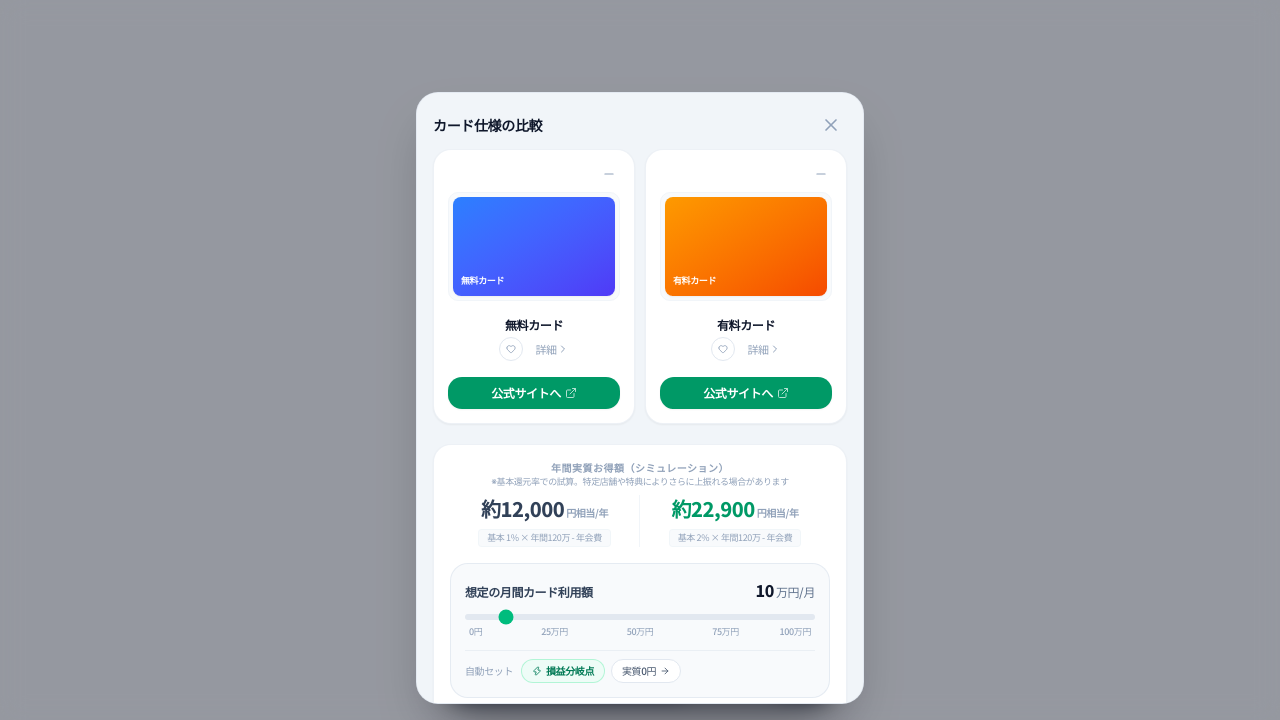
3. CompareBottomSheet (スライダー & 動的損益計算) テスト › 5. CompareBottomSheet 境界値テスト (Jest) › 1. 利用額 0 円設定時に NaN や計算エラーが発生せず、正常な数値が表示されること
The image size is (1280, 720).
Set the slider to "0" at (473, 617), box [465, 614, 815, 620]
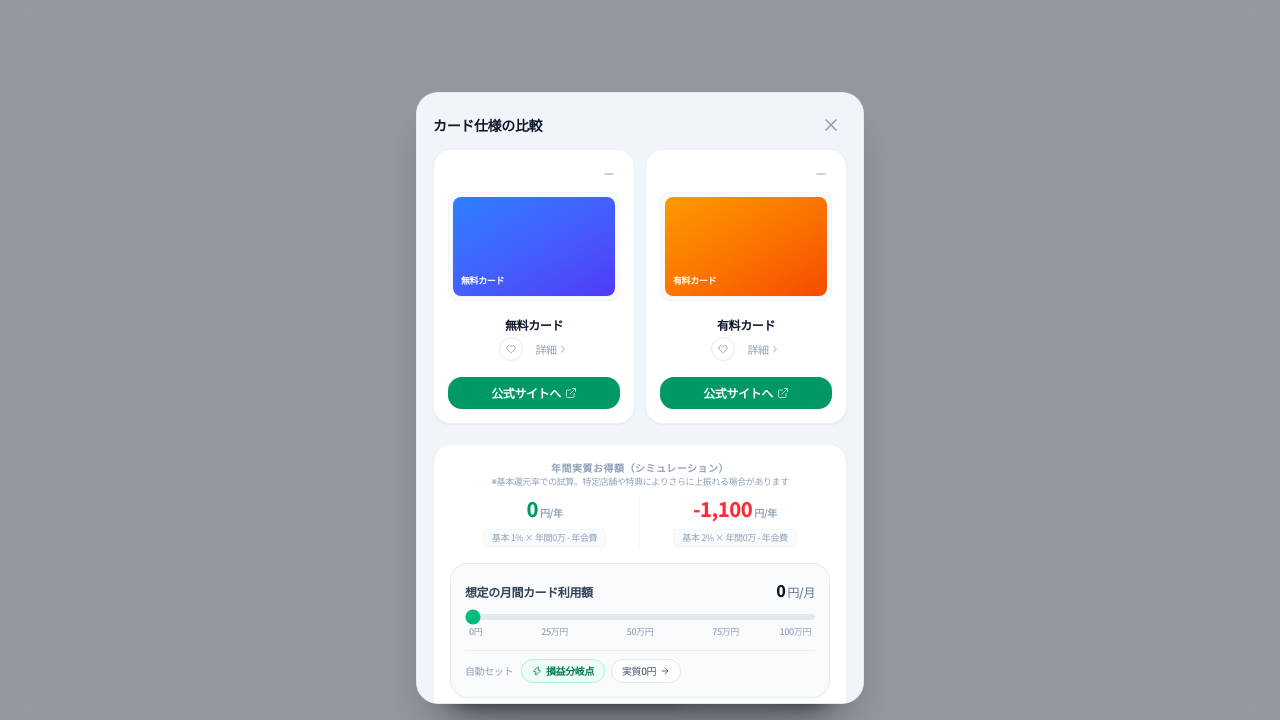
Expected: the text "-1,100" is shown, [693, 494, 752, 523]
